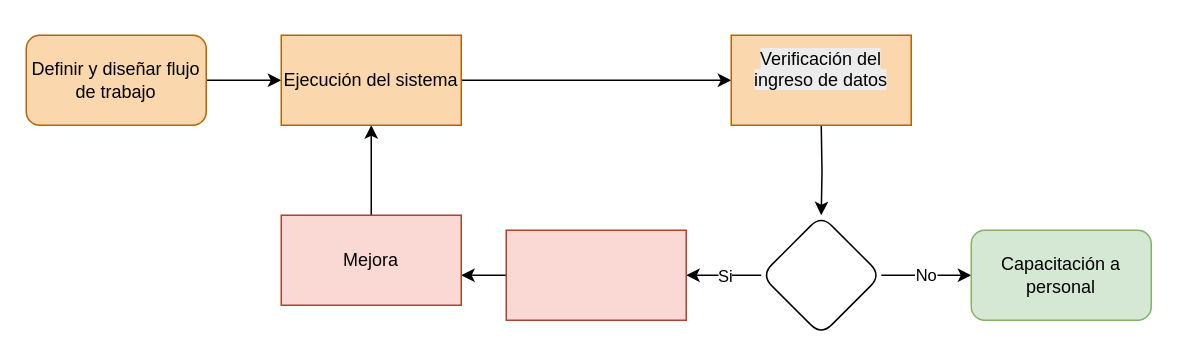
Image size: 1178x362. Some labels were removed from this diagram. Here are the shapes that lost their labels. From the top down, the box of each, then its label:
(505, 229, 686, 320): Identificación de error
(760, 214, 881, 335): Fallos
